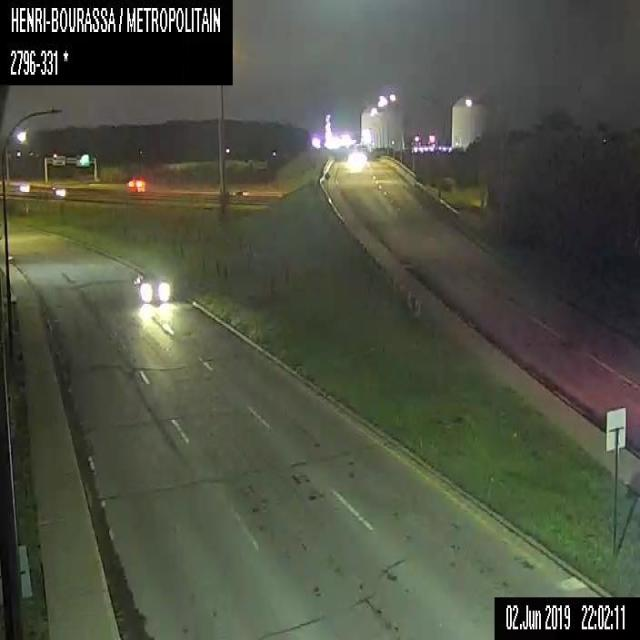vehicle: (136, 272, 170, 301), (127, 178, 145, 191), (50, 185, 65, 196), (18, 182, 29, 191)
